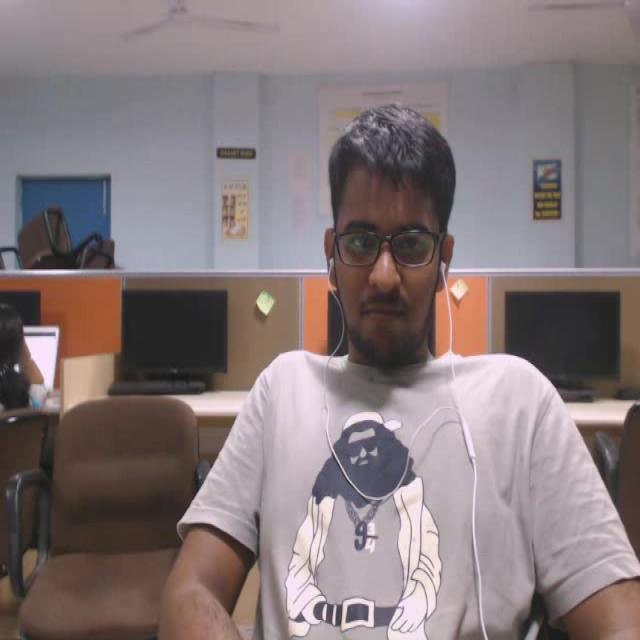Engaged: (321, 80, 480, 381)
